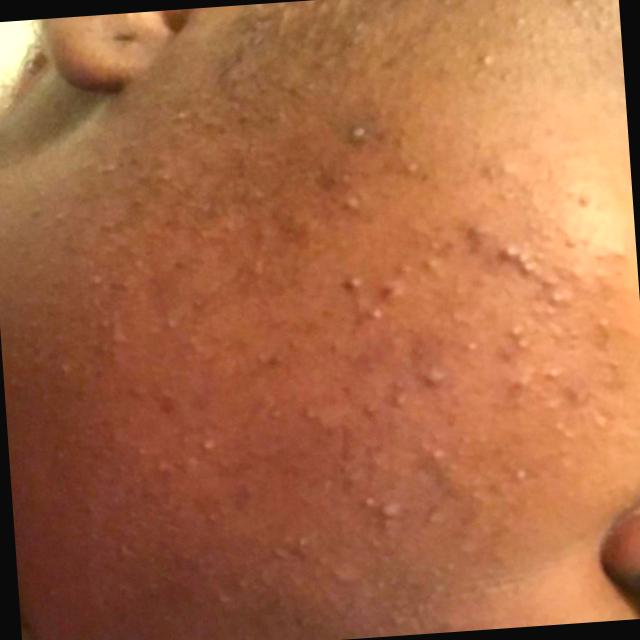fungal: (451, 135, 640, 454), (195, 252, 477, 463), (170, 37, 438, 254), (79, 386, 269, 576), (296, 460, 528, 614), (26, 157, 179, 383)
